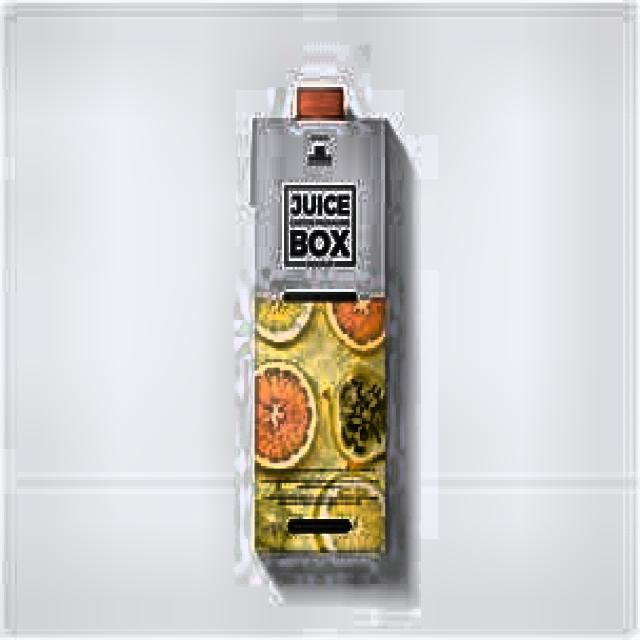cardboard: (250, 90, 390, 556)
